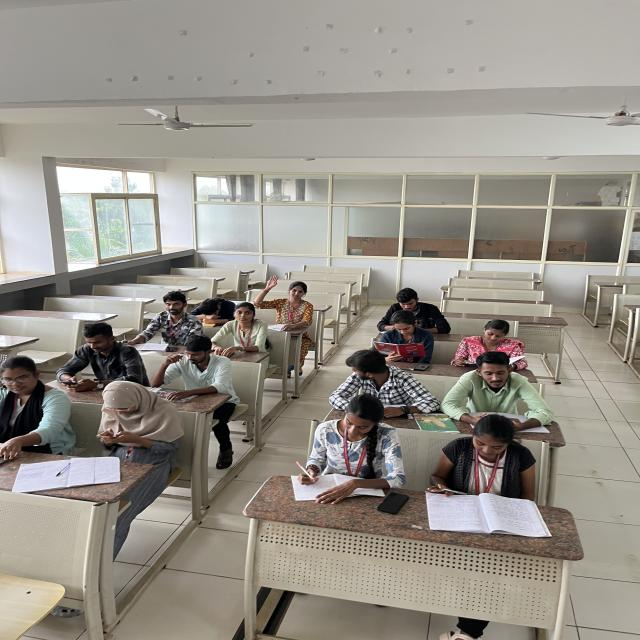Hand Rising: (258, 272, 318, 328)
Reading: (432, 414, 541, 523), (450, 315, 534, 370), (370, 310, 438, 365)
Sleeping: (191, 292, 241, 327)
Using Phone: (91, 377, 182, 453), (54, 322, 140, 394)
Writing: (292, 398, 398, 500), (129, 285, 199, 345)
